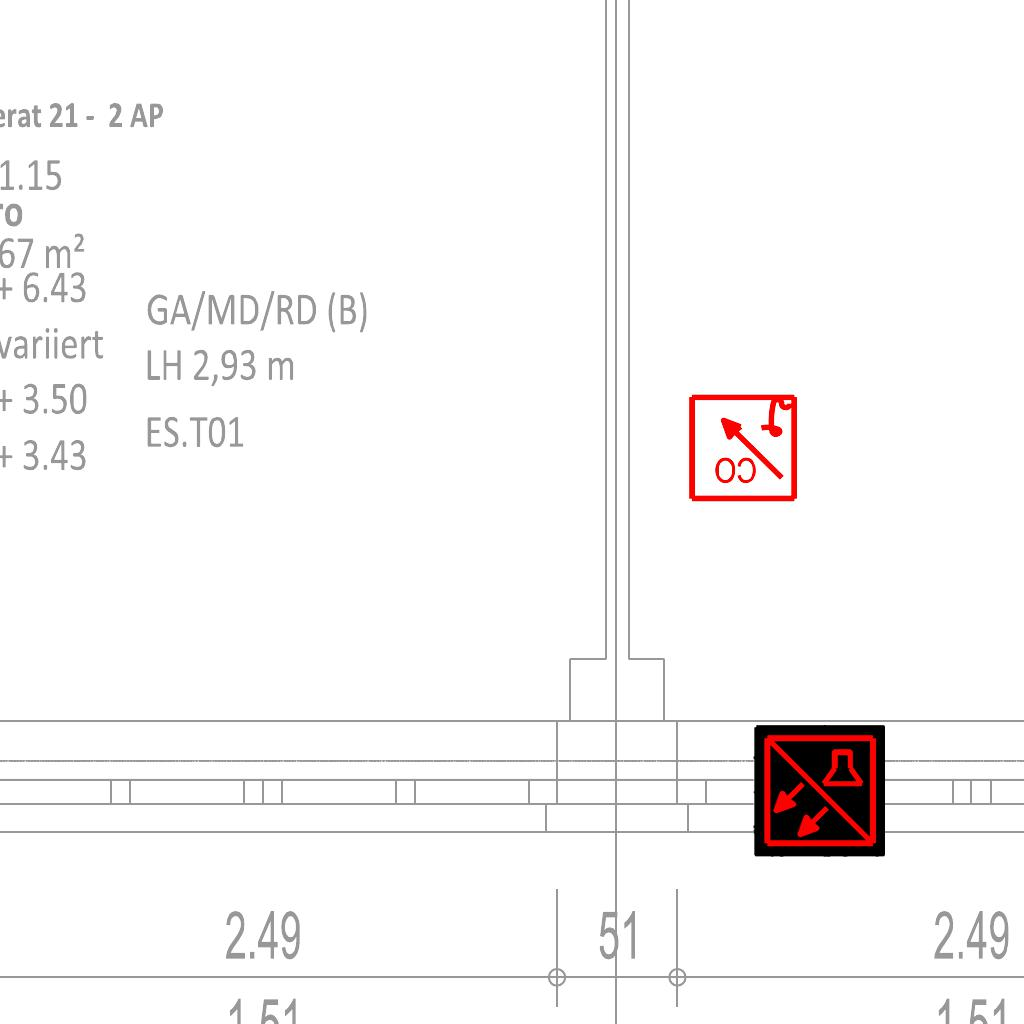OKW_Multisensormelder_(Kombination_optischer_Rauch-Kahlenmonoxid_Waerme-Melder): (753, 725, 885, 857)
ROA_Rauchmelder_optisch_mit_Signalgeber_(Sockelsirene): (686, 390, 799, 503)
